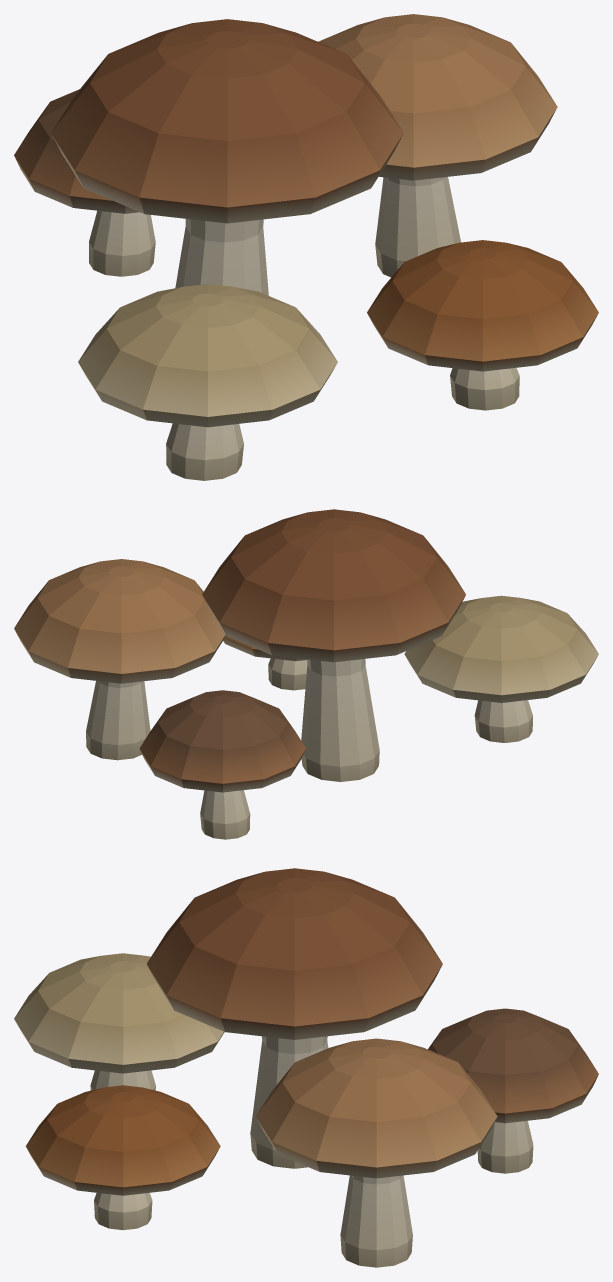
File: WoodlandMushrooms.glb
The picture shows the model from 3 angles, top to bottom: view 1: azimuth 30°, elevation 25°; view 2: azimuth 150°, elevation 25°; view 3: azimuth 270°, elevation 25°; orthographic projection. The views are drawn at different scales.
Visible parts, largest first — view 1: WoodlandMushrooms_Cluster; view 2: WoodlandMushrooms_Cluster; view 3: WoodlandMushrooms_Cluster.
Part boxes in pixels (box(x1,y1,x2,y2)): WoodlandMushrooms_Cluster: box(14, 14, 598, 480); WoodlandMushrooms_Cluster: box(14, 509, 598, 839); WoodlandMushrooms_Cluster: box(14, 868, 598, 1267).
Bounding box in the file's own units: 0.7385 × 0.38 × 0.75.
